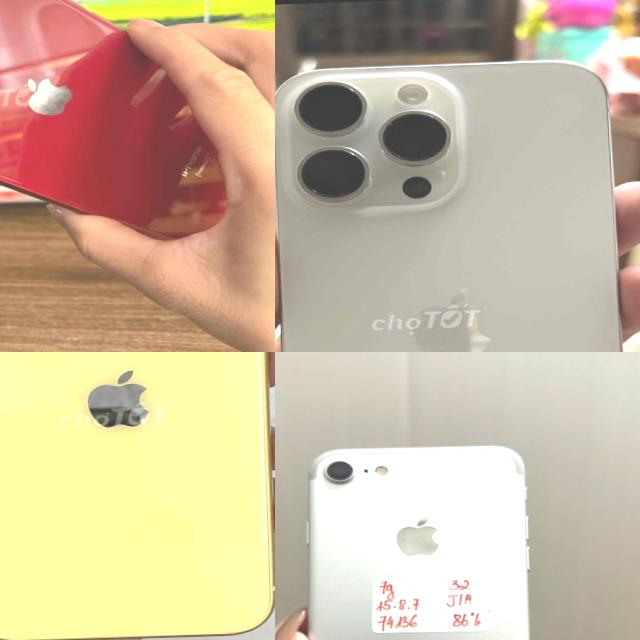gen_14: (0, 352, 275, 640)
gen_15: (275, 45, 640, 352)
gen_7_8: (296, 430, 551, 640)
gen_x_xs: (0, 0, 224, 238)
